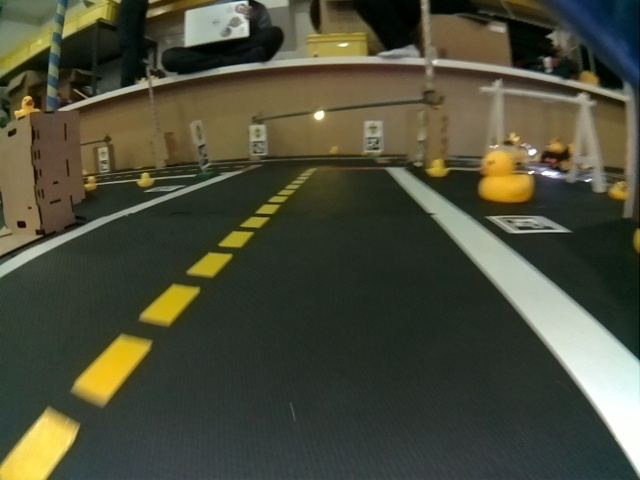Duckie: (480, 152, 533, 199), (15, 97, 38, 117), (427, 159, 446, 177), (138, 172, 151, 185), (83, 175, 95, 188)
Intersection sign: (366, 122, 381, 134)
QR code: (488, 216, 570, 234), (366, 137, 381, 151), (198, 147, 208, 165), (252, 143, 265, 153)
Signal sign: (250, 126, 264, 139)
Traffic light: (314, 110, 324, 120)
